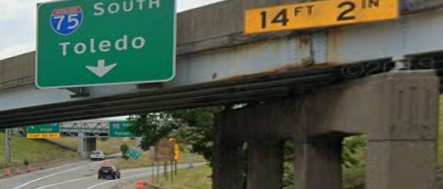1: (256, 8, 269, 30)
2: (332, 1, 360, 24)
4: (268, 7, 290, 28)
overheadsign: (247, 1, 399, 34)
